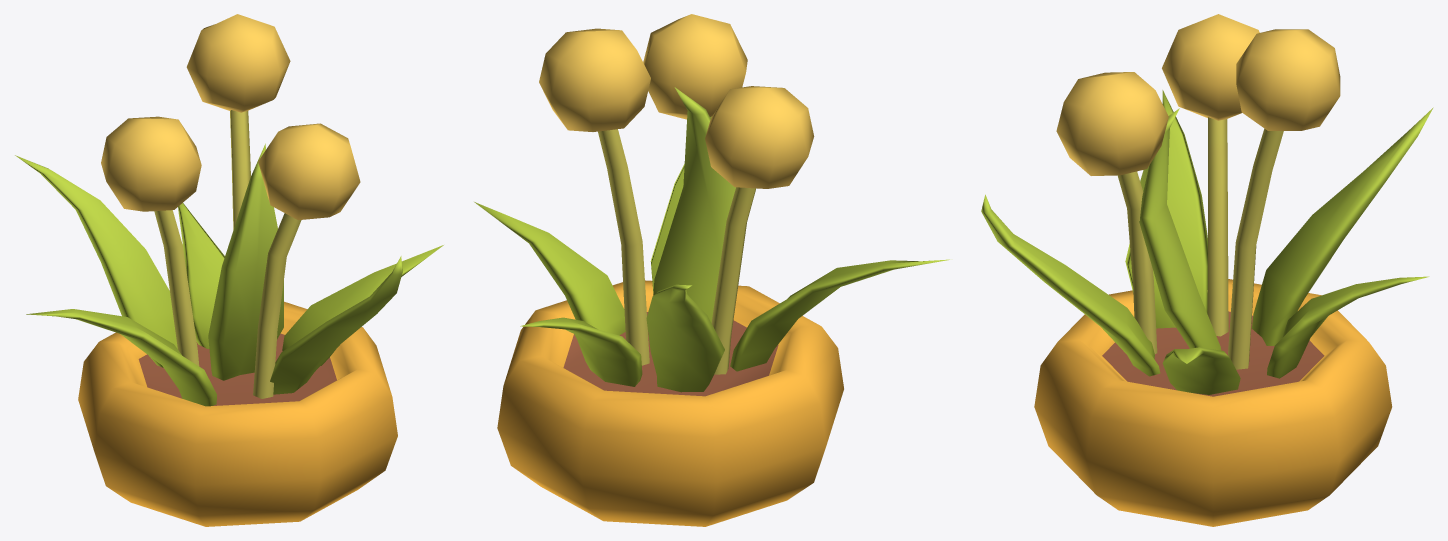
File: Homestead_nm_20.fbx
3 renders of one model, left to right at view 1: azimuth 30°, elevation 25°; view 2: azimuth 150°, elevation 25°; view 3: azimuth 270°, elevation 25°, orthographic. The views are drawn at different scales.
Parts seen in each view (by area): view 1: Homestead_nm_20; view 2: Homestead_nm_20; view 3: Homestead_nm_20.
Boxes of the visible parts, left/top/right/bottom form: Homestead_nm_20: left=15, top=14, right=443, bottom=526; Homestead_nm_20: left=474, top=14, right=949, bottom=526; Homestead_nm_20: left=981, top=14, right=1433, bottom=526.
Size of the model in its own units: 71.24 by 67.12 by 59.91.
